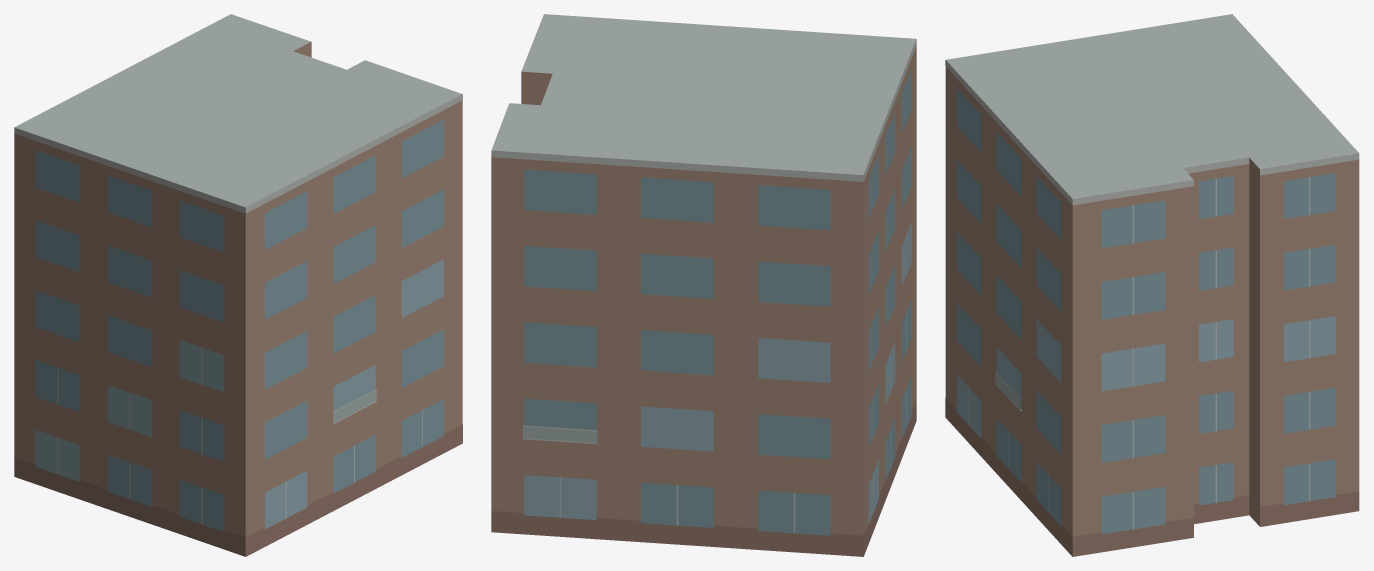
Rendered from survey-upis-32500852.glb.
3 views of the same model, side by side, from view 1: azimuth 30°, elevation 25°; view 2: azimuth 150°, elevation 25°; view 3: azimuth 270°, elevation 25° (orthographic). The views are drawn at different scales.
Parts seen in each view (by area): view 1: survey-upis-32500852.tmp; view 2: survey-upis-32500852.tmp; view 3: survey-upis-32500852.tmp.
Boxes of the visible parts, x1,y1,x2,y2 form: survey-upis-32500852.tmp: (14, 14, 462, 556); survey-upis-32500852.tmp: (491, 14, 916, 556); survey-upis-32500852.tmp: (945, 14, 1359, 556).
Bounding box in the file's own units: 15.38 × 13.85 × 14.53.
